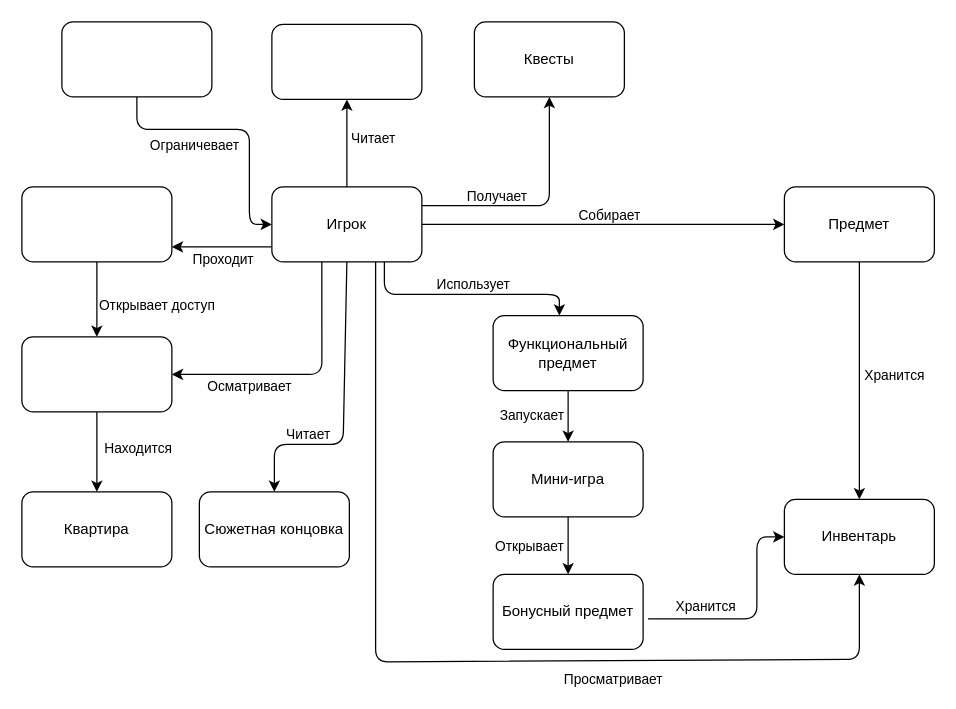
The diagram is 956 pixels wide and 709 high, and some of its shapes have lost their labels. Each missing label, with the box of its shape:
Дверь: (21, 186, 172, 262)
Локация: (21, 336, 172, 412)
Пузырь: (271, 23, 422, 99)
Таймер: (61, 21, 212, 97)
